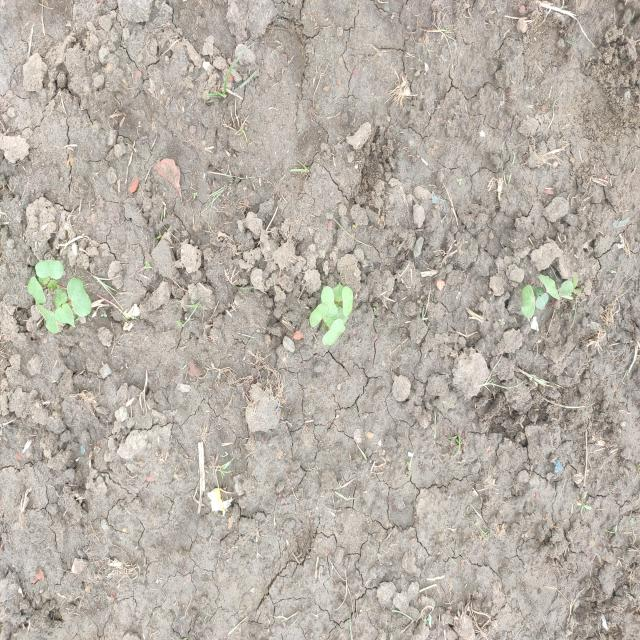seedling_s4: (67, 278, 92, 317), (322, 318, 345, 345), (38, 304, 58, 334), (35, 260, 64, 280), (539, 275, 560, 301), (27, 277, 46, 305), (321, 286, 337, 318), (55, 303, 75, 328), (521, 284, 535, 318), (310, 303, 328, 327), (342, 286, 353, 316), (559, 281, 574, 300), (54, 288, 67, 307), (335, 304, 348, 323), (535, 293, 549, 309), (333, 282, 344, 302), (323, 314, 337, 328), (48, 280, 58, 290), (38, 277, 50, 285)
